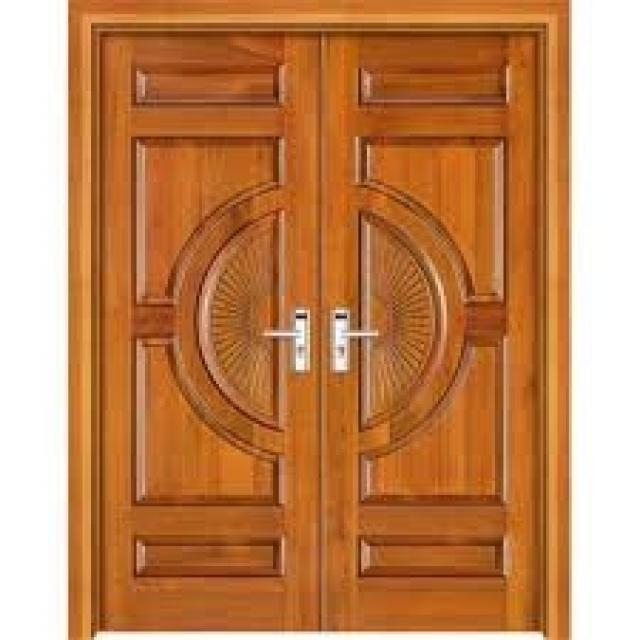Door: (71, 2, 552, 634)
